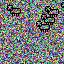sheep: (41, 13, 56, 25), (45, 5, 59, 17), (7, 5, 21, 16), (36, 21, 50, 32)
